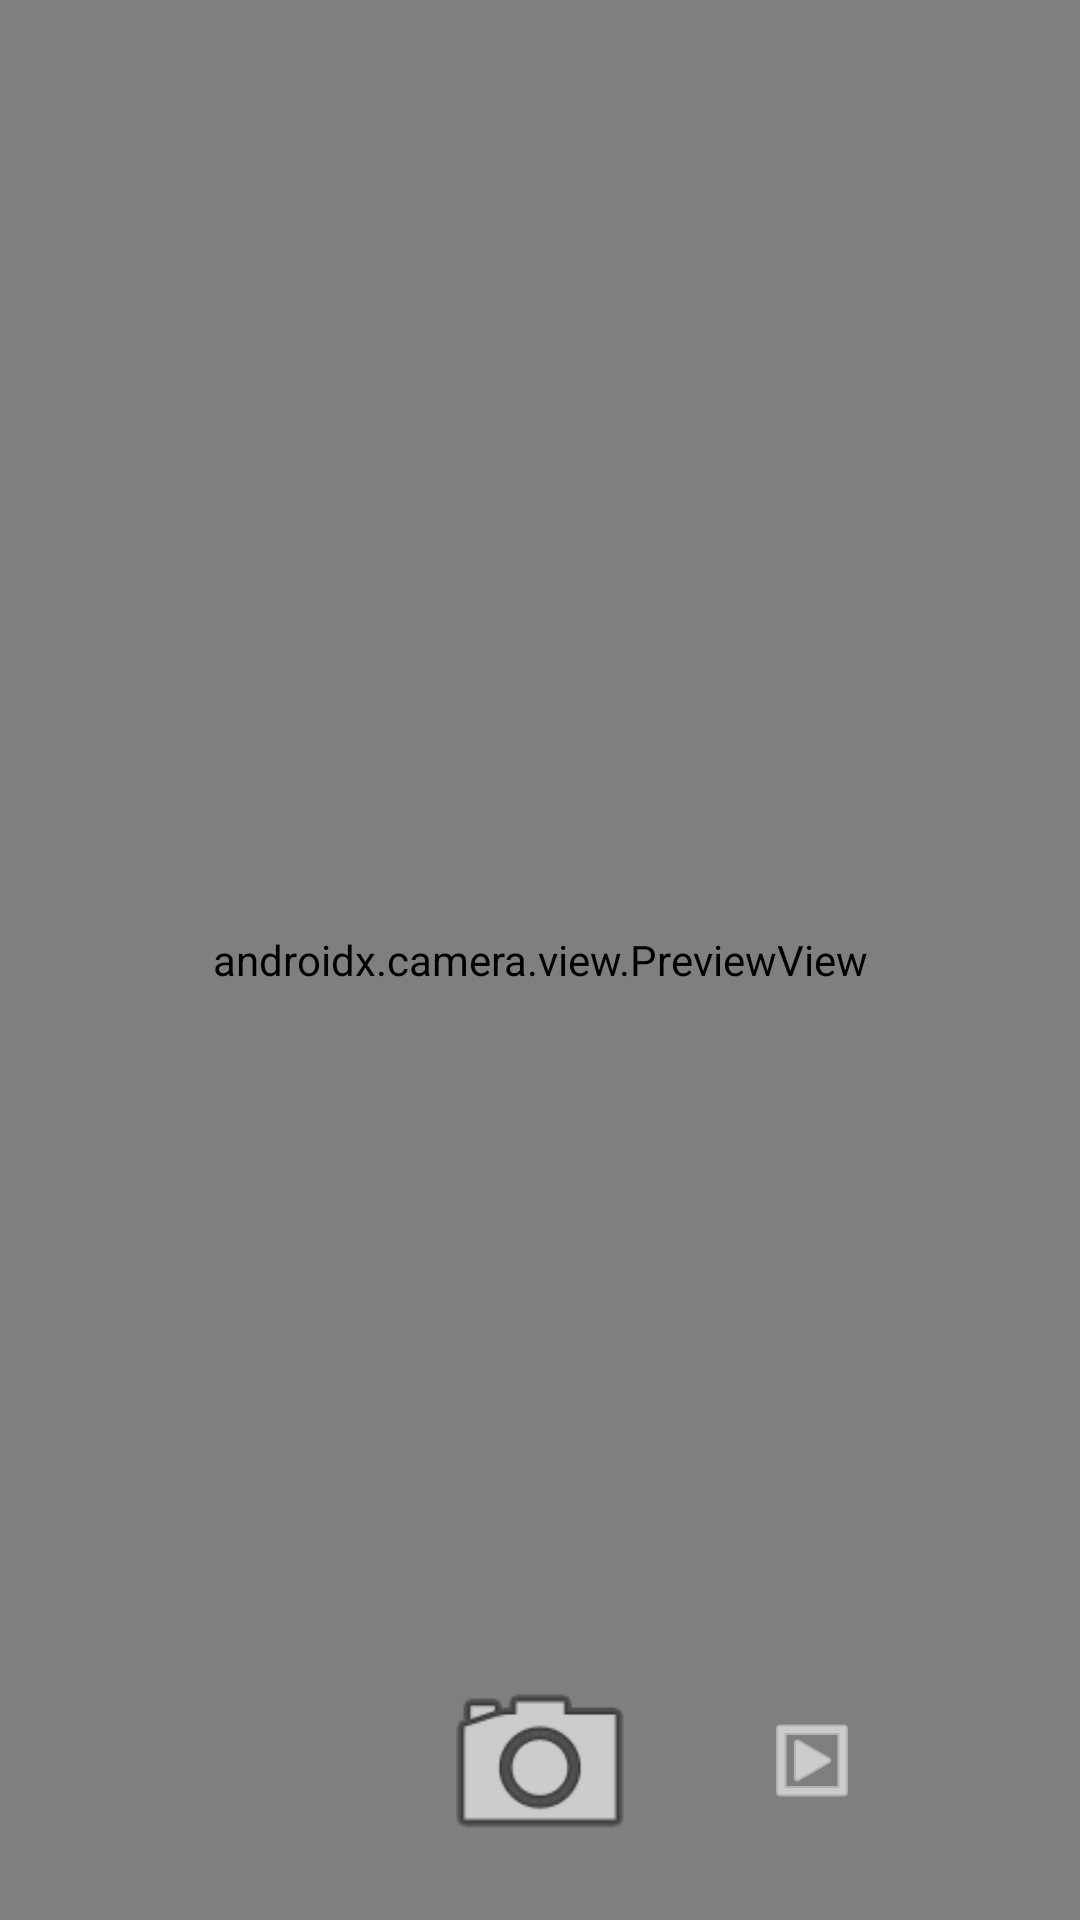

Where icons sit on this 1080w x 1920h app screen, as (x1, y1, x2, y2):
Capturar: (457, 1695, 623, 1826)
